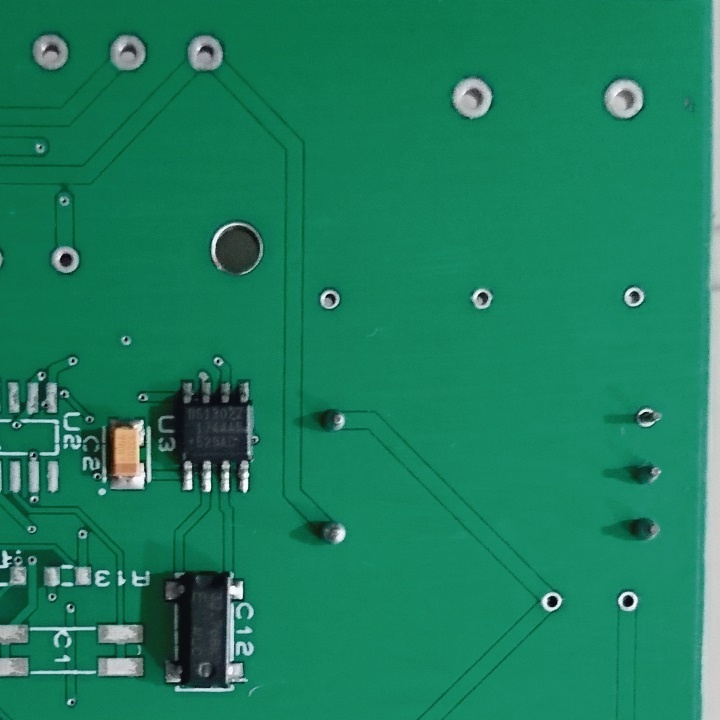F: (446, 71, 502, 122), (598, 73, 650, 123), (181, 28, 230, 78), (105, 29, 150, 79), (30, 27, 72, 75), (47, 242, 81, 280), (636, 402, 663, 435), (317, 283, 344, 315), (624, 283, 649, 315), (539, 589, 567, 616), (469, 286, 497, 312), (614, 588, 639, 613)
